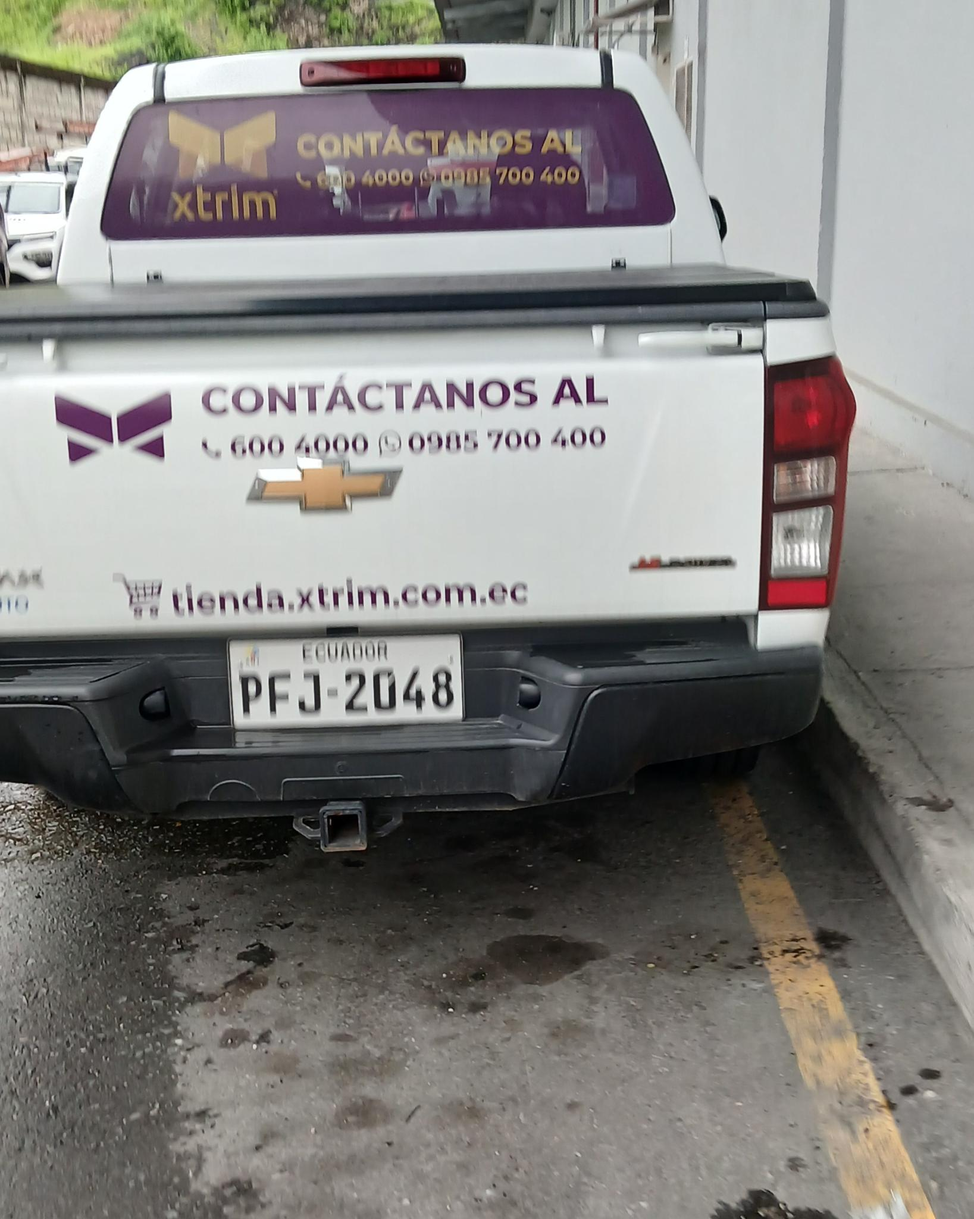license_plate: (227, 634, 462, 726)
